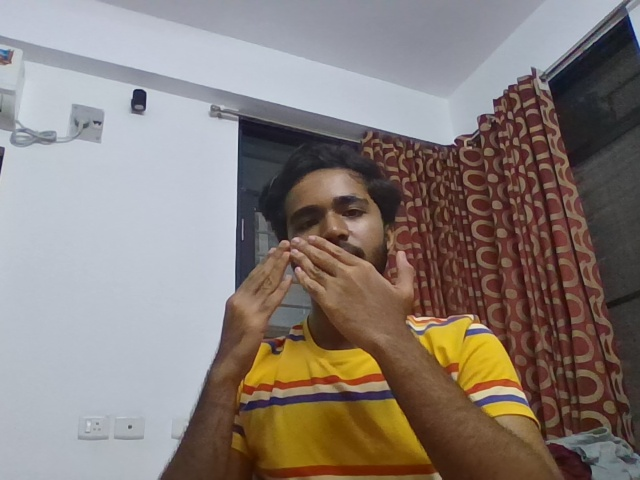Thank You: (185, 234, 432, 407)
